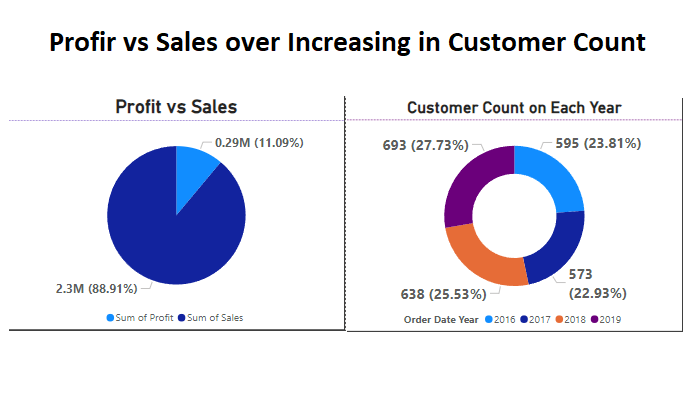

This screenshot's page, from the dashboard's own definition file:
{"tool":"powerbi","page":{"name":"Summary","canvas":[1280,720],"ordinal":0},"visuals":[{"type":"textbox","box":[10.1,0,1269.9,97.3],"z":0},{"type":"textbox","box":[9.6,92.1,818,628.3],"z":1},{"type":"pieChart","title":"Profit vs Sales","fields":{"Y":["Sum(Orders.Profit)","Sum(Orders.Sales)"]},"box":[827.7,92.1,452.3,314.8],"z":2},{"type":"donutChart","title":"Customer Count on Each Year","fields":{"Y":["Count(Orders.Customer Name)"],"Category":["Orders.Order Date.Variation.Date Hierarchy.Year","Orders.Order Date.Variation.Date Hierarchy.Quarter","Orders.Order Date.Variation.Date Hierarchy.Month","Orders.Order Date.Variation.Date Hierarchy.Day"]},"box":[827.7,407,452.3,313.5],"z":3}]}

Visuals, with their boxes on the page's 1280x720 design canvas (x1, y1, x2, y2). These are canvas units, not pixel positions in the 683x417 screenshot, which may show the page scaled, cropped or inside an application window:
textbox: [10, 0, 1280, 97]
textbox: [10, 92, 828, 720]
"Profit vs Sales" pieChart: [828, 92, 1280, 407]
"Customer Count on Each Year" donutChart: [828, 407, 1280, 720]
